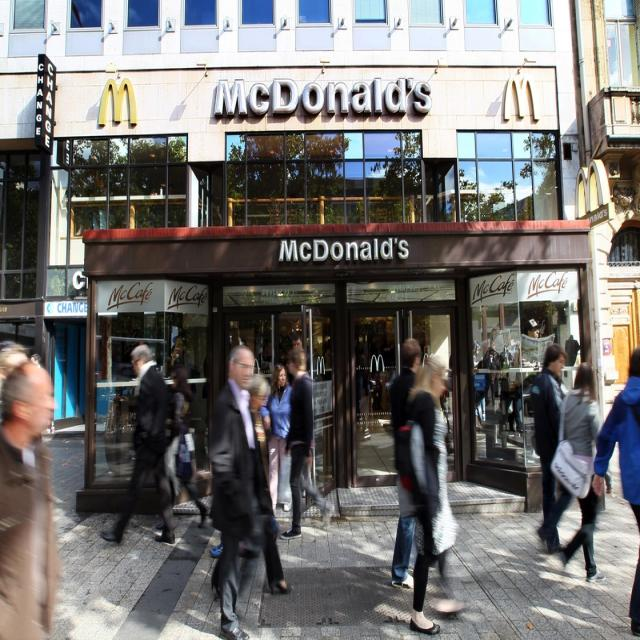body: (395, 354, 470, 639), (0, 360, 62, 639), (207, 343, 263, 640), (100, 342, 177, 546), (551, 357, 614, 586), (592, 344, 640, 639), (388, 336, 437, 592), (280, 348, 334, 540), (476, 317, 541, 476), (245, 374, 290, 597), (151, 363, 210, 533), (529, 342, 574, 556), (259, 362, 294, 518), (355, 348, 386, 426), (0, 335, 43, 380), (164, 334, 197, 378), (290, 333, 308, 357), (210, 541, 228, 559)
